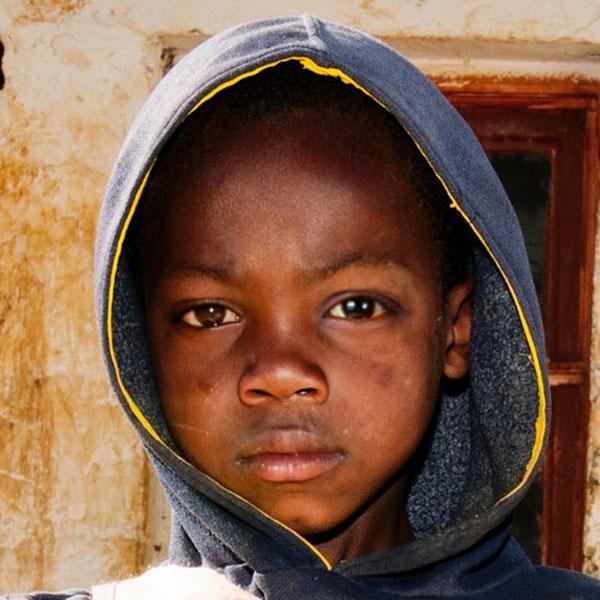Eyes: (319, 282, 411, 335), (165, 288, 251, 342)
